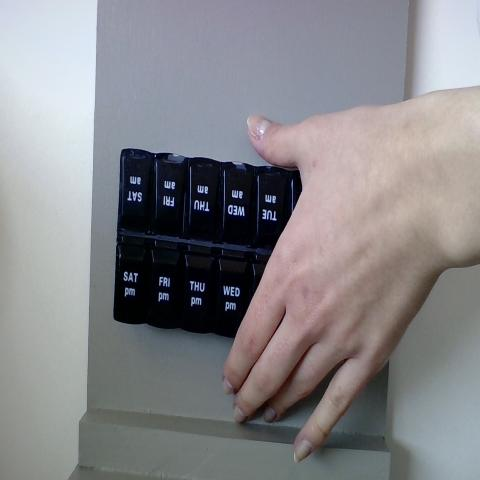FRI-am: (157, 150, 186, 236)
FRI-pm: (151, 240, 181, 324)
Hands: (217, 54, 478, 472)
SAT-am: (119, 152, 156, 229)
SAT-pm: (118, 235, 150, 322)
THU-am: (187, 163, 220, 242)
THU-pm: (182, 247, 216, 334)
TUE-am: (257, 168, 283, 236)
WED-am: (222, 166, 258, 244)
WED-pm: (217, 253, 248, 336)
